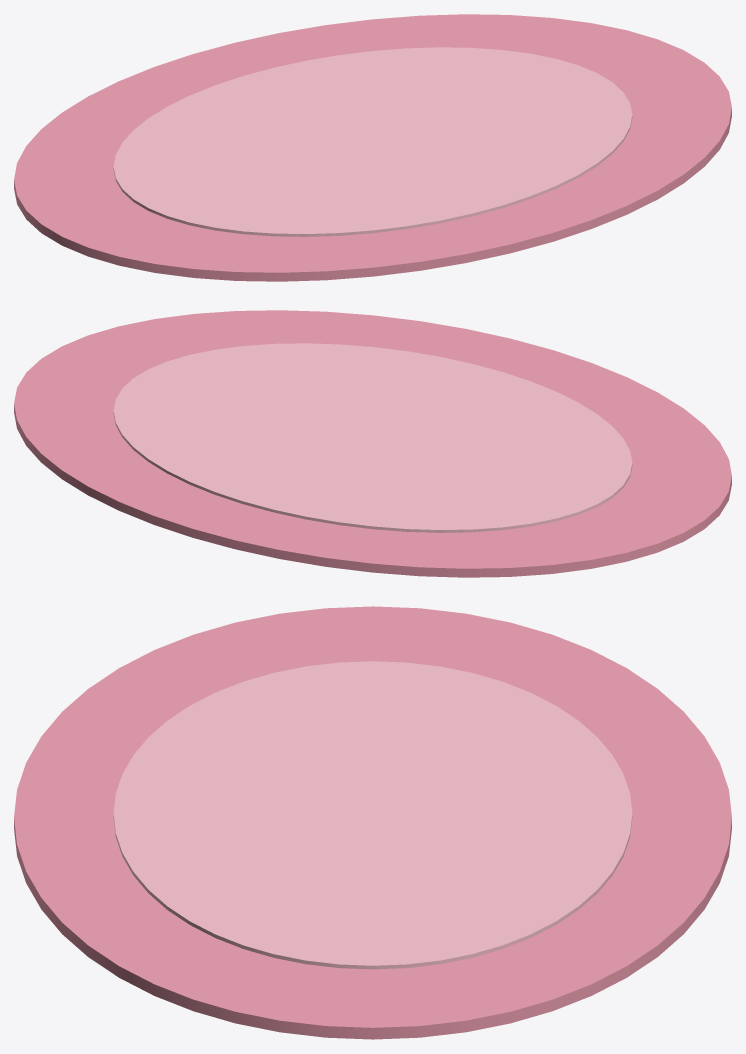
File: rug.glb
3 views of the same model, one above another, from view 1: azimuth 30°, elevation 25°; view 2: azimuth 150°, elevation 25°; view 3: azimuth 270°, elevation 25° (orthographic). The views are drawn at different scales.
Size of the model in its own units: 3.1 by 0.0525 by 2.23.
